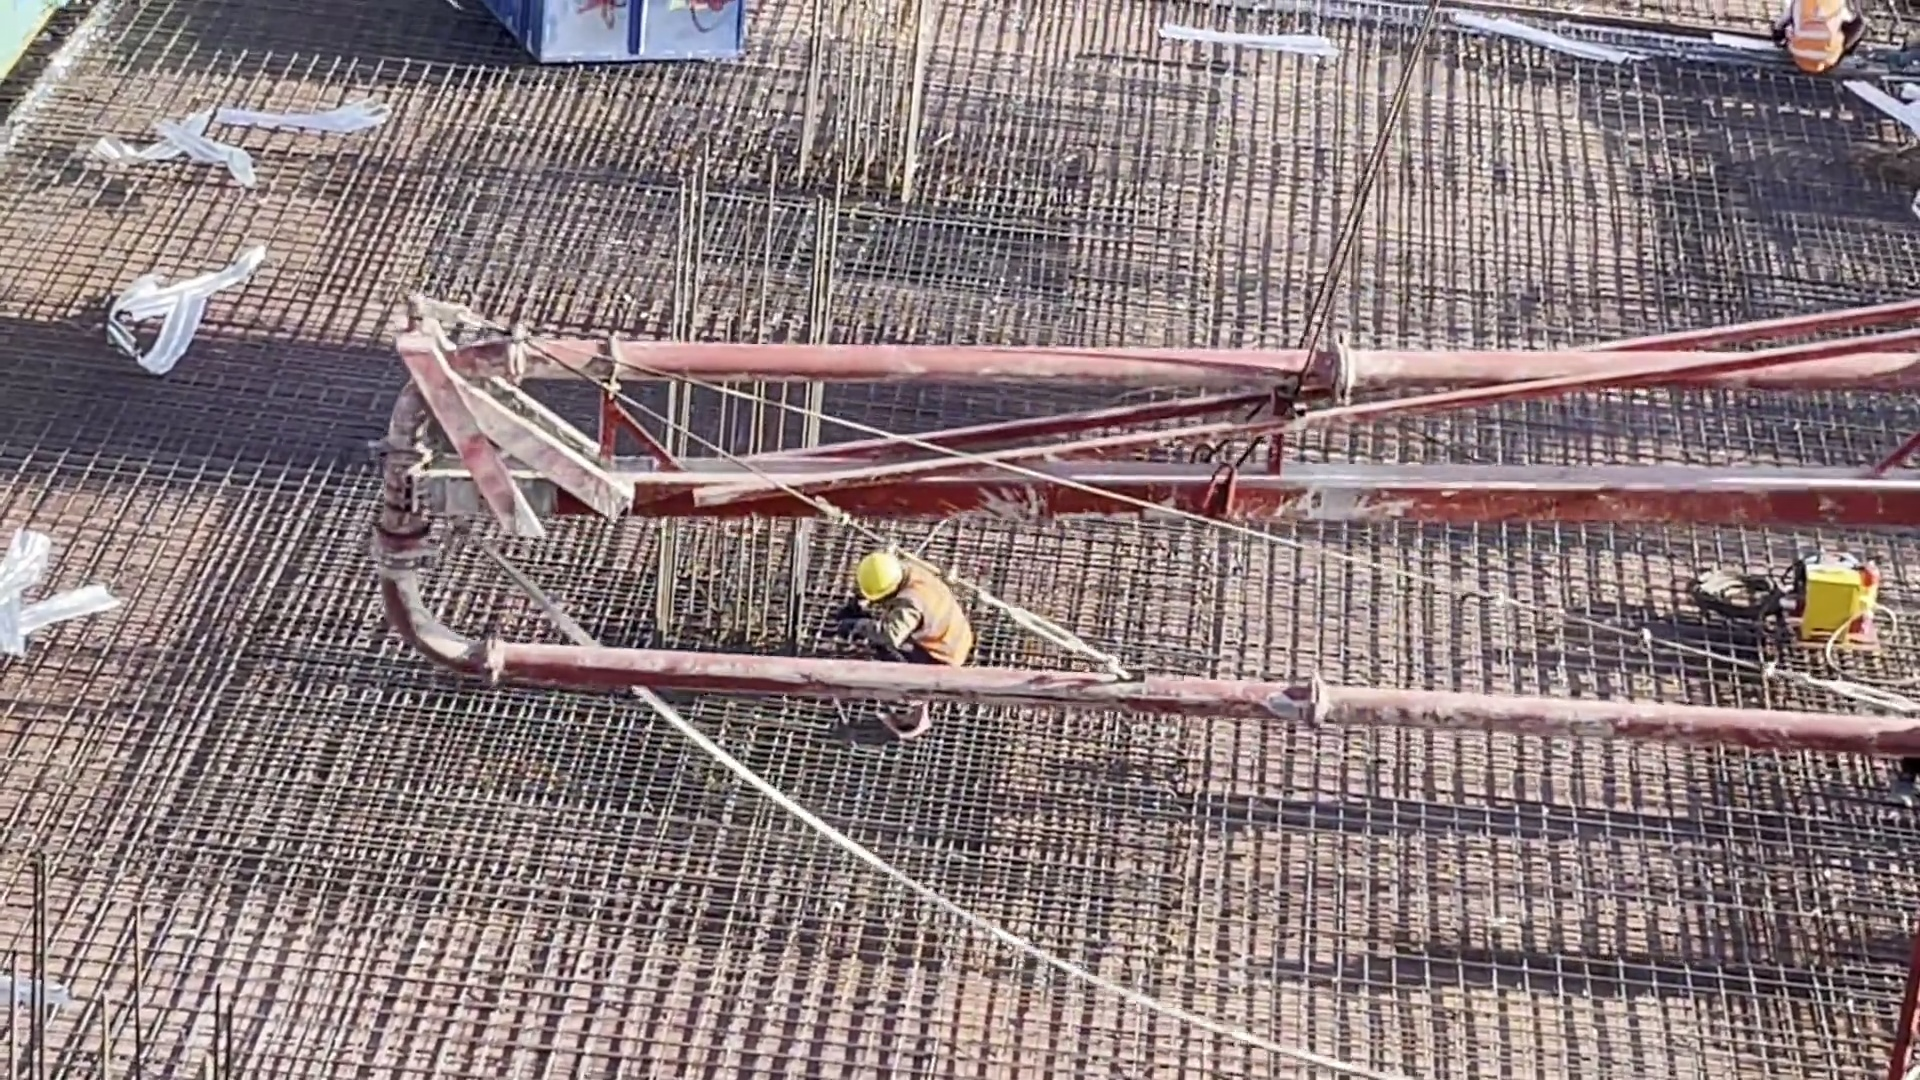helmet: (858, 552, 909, 591)
hopper: (544, 1, 746, 63)
person: (833, 545, 977, 750), (1768, 1, 1862, 95)
vest: (904, 575, 961, 664), (1786, 11, 1846, 65)
